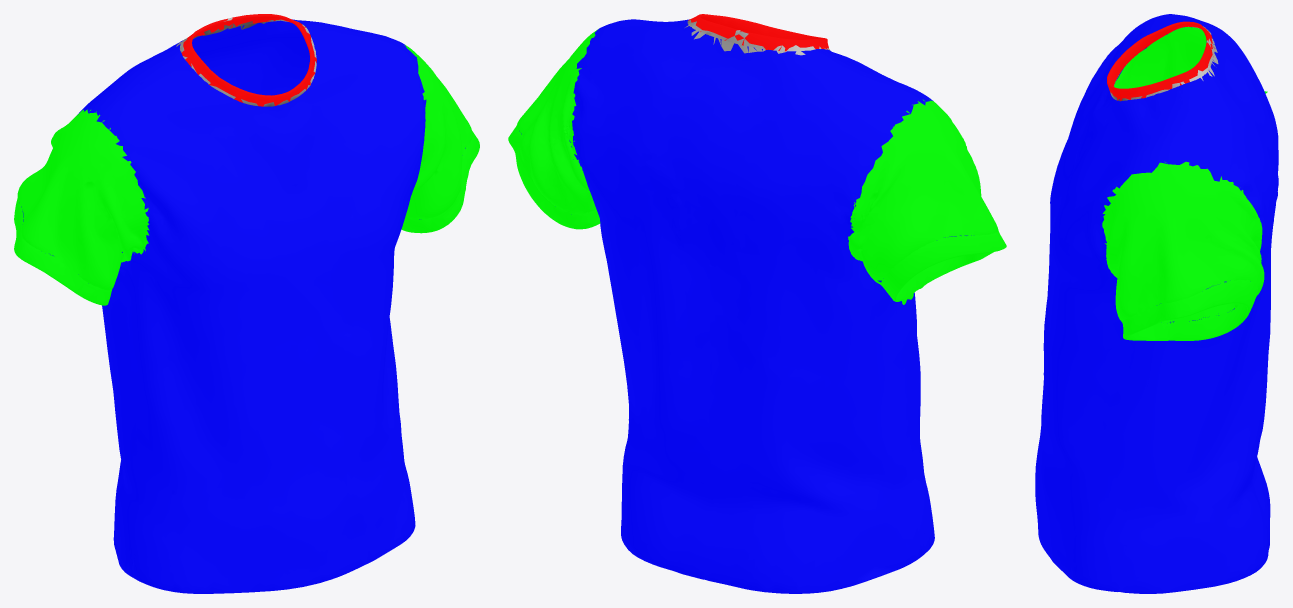
File: camiseta_v2.glb
3 renders of one model, left to right at view 1: azimuth 30°, elevation 25°; view 2: azimuth 150°, elevation 25°; view 3: azimuth 270°, elevation 25°, orthographic. The views are drawn at different scales.
Visible parts, largest first — view 1: camiseta; view 2: camiseta; view 3: camiseta.
Part boxes in pixels (bbox=[...]): camiseta: bbox=[14, 14, 479, 593]; camiseta: bbox=[508, 14, 1006, 593]; camiseta: bbox=[1035, 14, 1278, 593].
Size of the model in its own units: 4.71 by 4.87 by 2.17.
